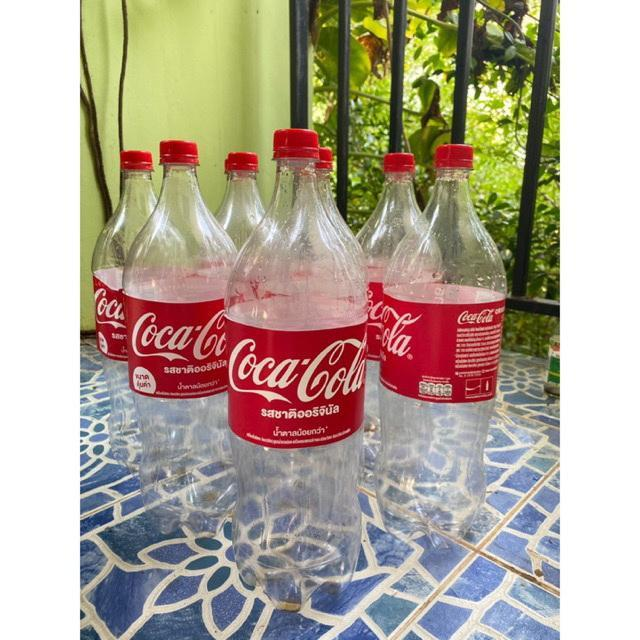PET Bottle: (203, 119, 389, 632), (382, 140, 502, 566), (126, 124, 240, 542), (81, 131, 180, 488), (356, 127, 436, 339), (212, 122, 262, 271)
